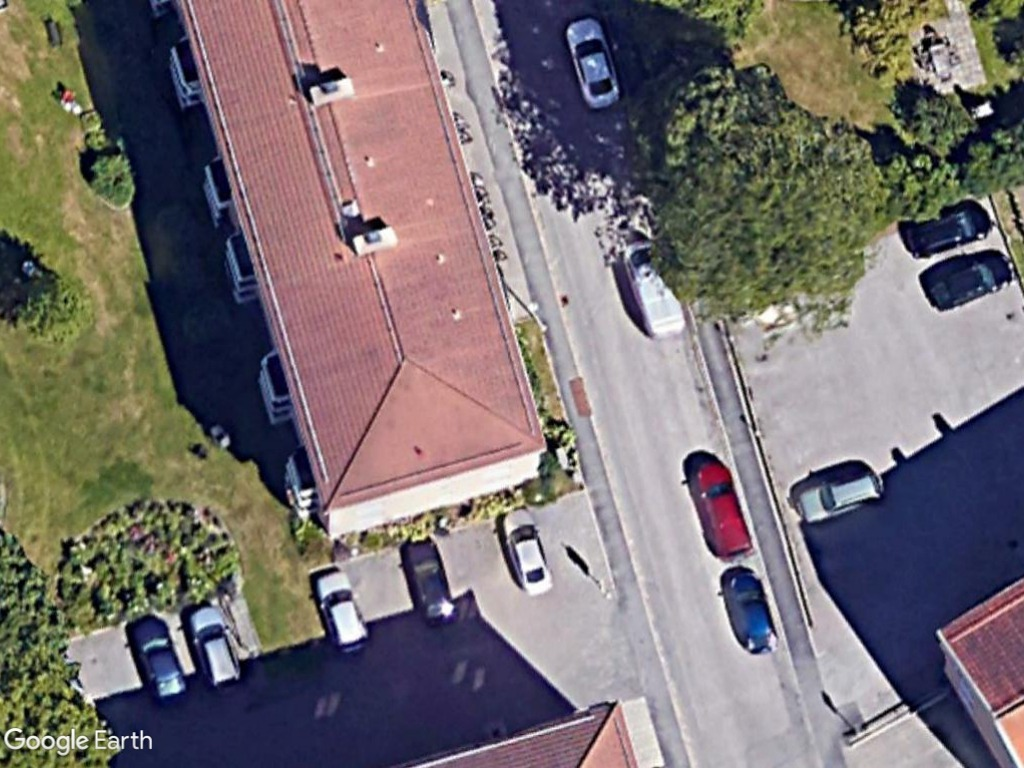car: (688, 454, 757, 564), (490, 497, 559, 604), (784, 461, 887, 531), (556, 10, 626, 110), (120, 610, 192, 704), (182, 601, 249, 699), (308, 564, 375, 659), (718, 564, 784, 660), (922, 247, 1013, 313), (398, 531, 458, 631)
